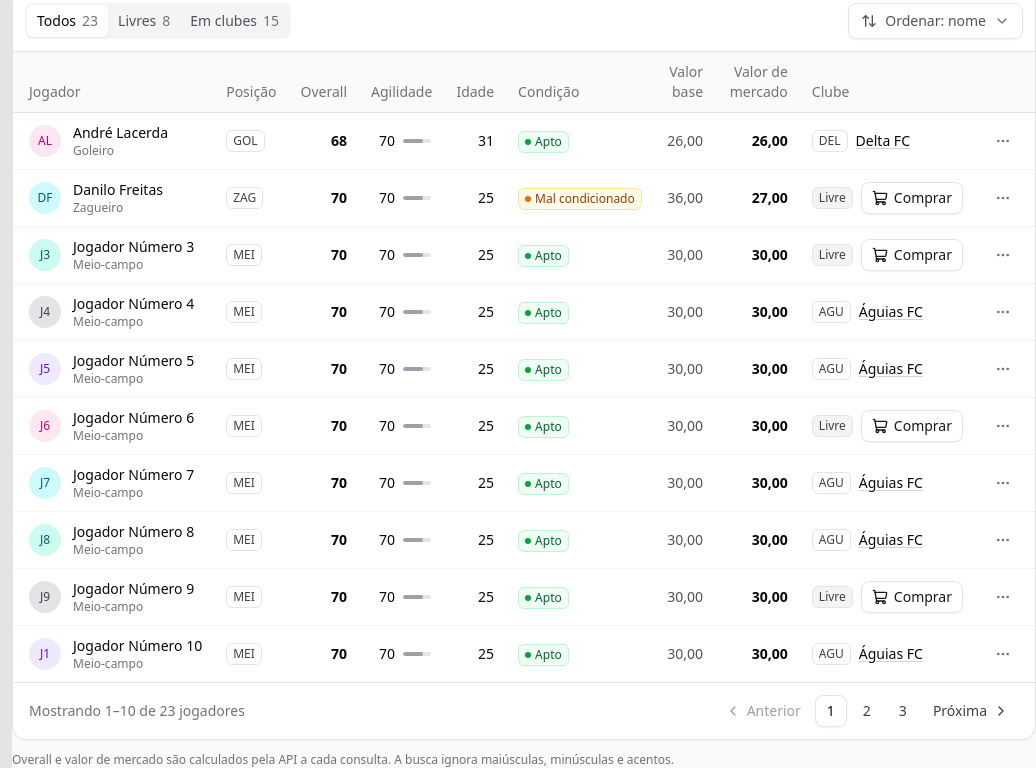
PlayersPage › navega entre as páginas
(page scrolled)
Expected: the text "Mostrando 1–10 de 23 jogadores" is shown, x1=29 y1=701 x2=245 y2=721
Click the button "Próxima" at (971, 711), box x1=923 y1=695 x2=1019 y2=727
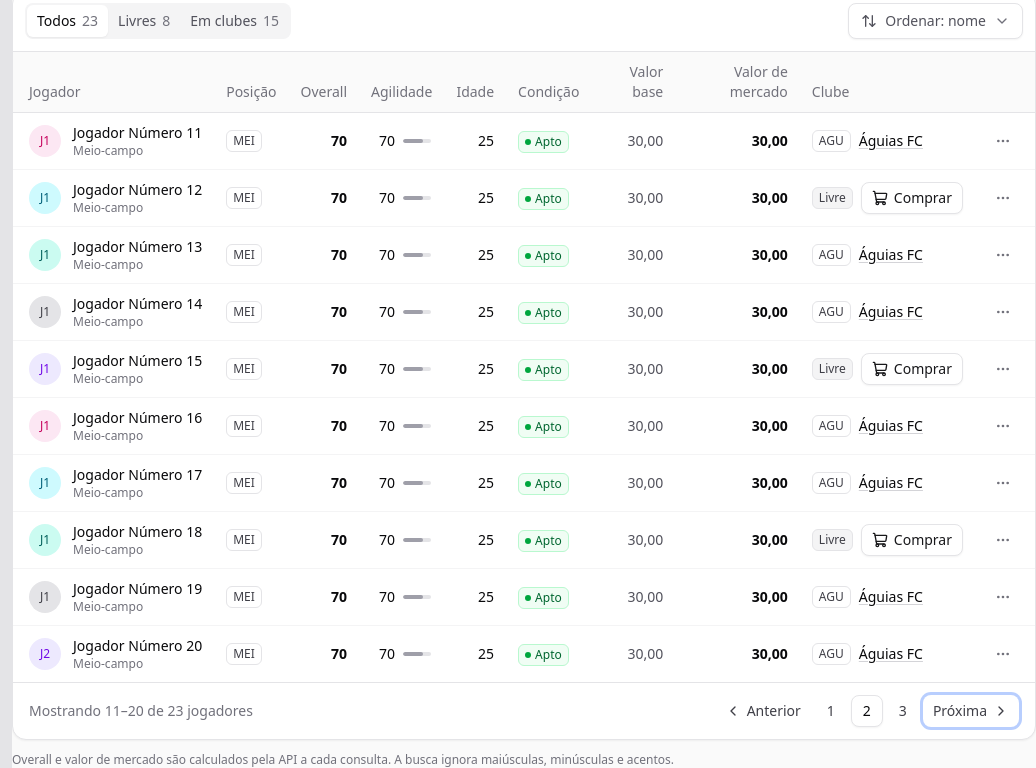
Expected: the text "Mostrando 11–20 de 23 jogadores" is shown, x1=29 y1=701 x2=253 y2=721
